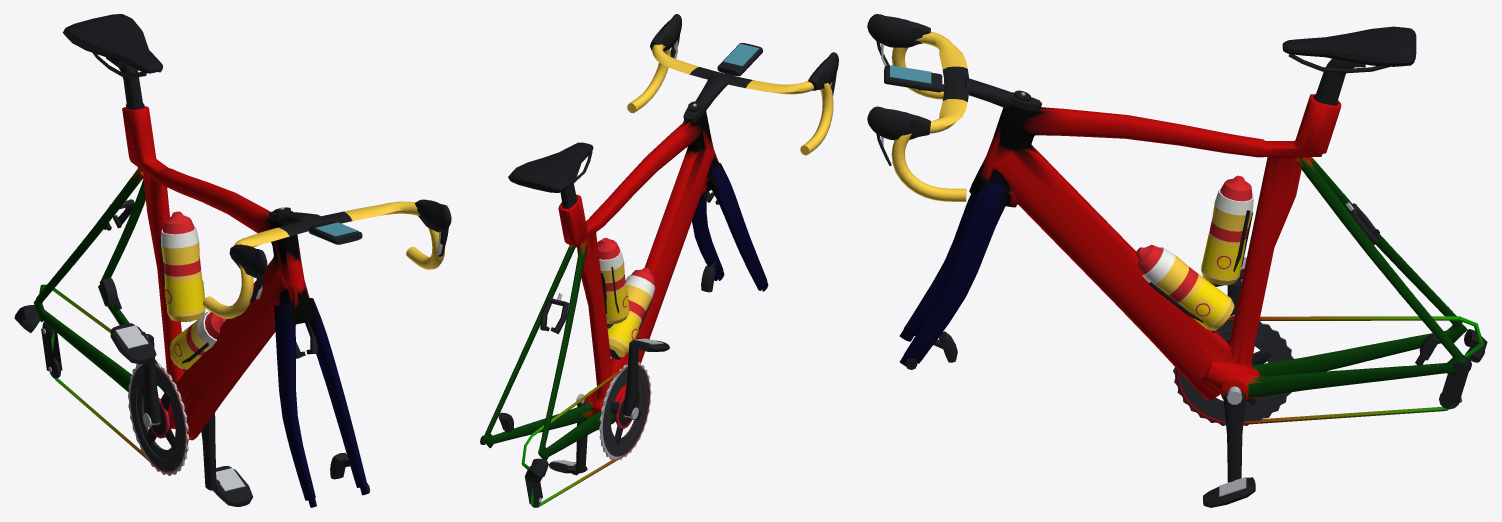
File: madone.glb
The picture shows the model from 3 angles, left to right: view 1: azimuth 30°, elevation 25°; view 2: azimuth 150°, elevation 25°; view 3: azimuth 270°, elevation 25°; orthographic projection. The views are drawn at different scales.
Visible parts, largest first — view 1: frame, cockpit, crankset, opt_bottles, saddle, pedal_R, opt_derailleur, pedal_L, opt_brakes_disc, opt_brakes_rim; view 2: frame, cockpit, crankset, opt_bottles, saddle, opt_derailleur, opt_brakes_rim, opt_brakes_disc, pedal_R; view 3: frame, cockpit, opt_bottles, saddle, crankset, opt_derailleur, opt_brakes_disc, pedal_L.
Part boxes in pixels (left/top/right/bottom): frame: left=33, top=106, right=368, bottom=507; cockpit: left=203, top=199, right=451, bottom=318; crankset: left=128, top=334, right=216, bottom=490; opt_bottles: left=159, top=211, right=226, bottom=372; saddle: left=63, top=14, right=162, bottom=109; pedal_R: left=110, top=323, right=156, bottom=364; opt_derailleur: left=14, top=305, right=62, bottom=378; pedal_L: left=213, top=465, right=252, bottom=506; opt_brakes_disc: left=99, top=278, right=370, bottom=493; opt_brakes_rim: left=103, top=199, right=317, bottom=358; frame: left=483, top=109, right=768, bottom=507; cockpit: left=627, top=14, right=838, bottom=155; crankset: left=576, top=340, right=651, bottom=473; opt_bottles: left=597, top=238, right=655, bottom=359; saddle: left=508, top=142, right=593, bottom=208; opt_derailleur: left=524, top=458, right=548, bottom=507; opt_brakes_rim: left=540, top=192, right=718, bottom=334; opt_brakes_disc: left=480, top=261, right=717, bottom=444; pedal_R: left=631, top=338, right=669, bottom=351; frame: left=899, top=94, right=1483, bottom=424; cockpit: left=867, top=14, right=1041, bottom=201; opt_bottles: left=1136, top=175, right=1253, bottom=333; saddle: left=1282, top=26, right=1416, bottom=105; crankset: left=1173, top=279, right=1294, bottom=482; opt_derailleur: left=1439, top=329, right=1487, bottom=409; opt_brakes_disc: left=905, top=331, right=1465, bottom=373; pedal_L: left=1203, top=477, right=1255, bottom=507.
Size of the model in its own units: 0.4654 by 0.8869 by 1.13.
